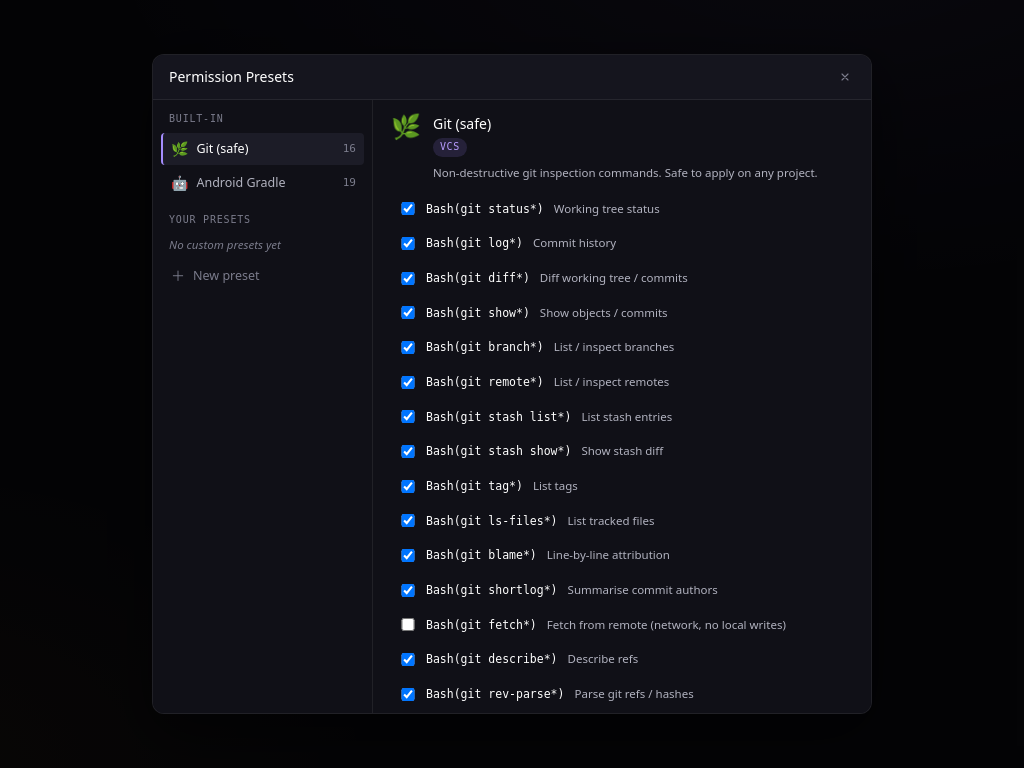
PresetsSheet — createUserPreset › sends `permissions presets new <slug> --name <name> --icon <icon>`, and a success closes the create form with a toast
Expected: the heading "Permission Presets" is shown, [169, 67, 294, 87]
Click the button "＋ New preset".
click(262, 276)  # box [161, 260, 364, 292]
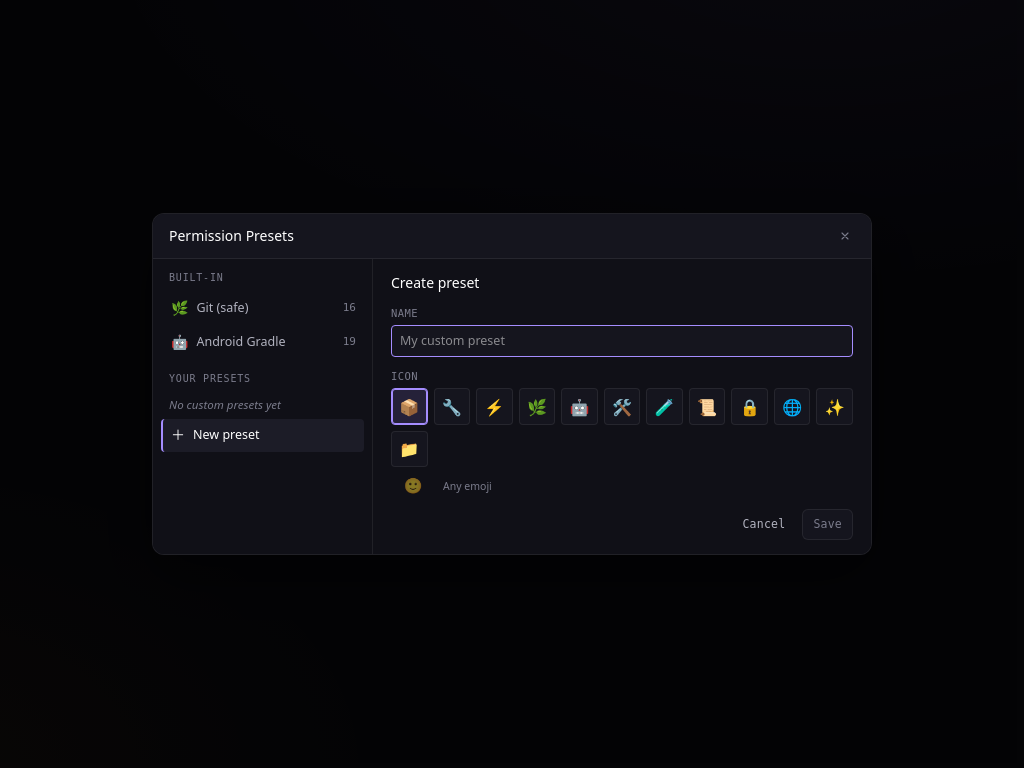
Type "My Tools" into the field with placeholder "My custom preset".
click(622, 341); type("My Tools")  # box [391, 325, 853, 357]
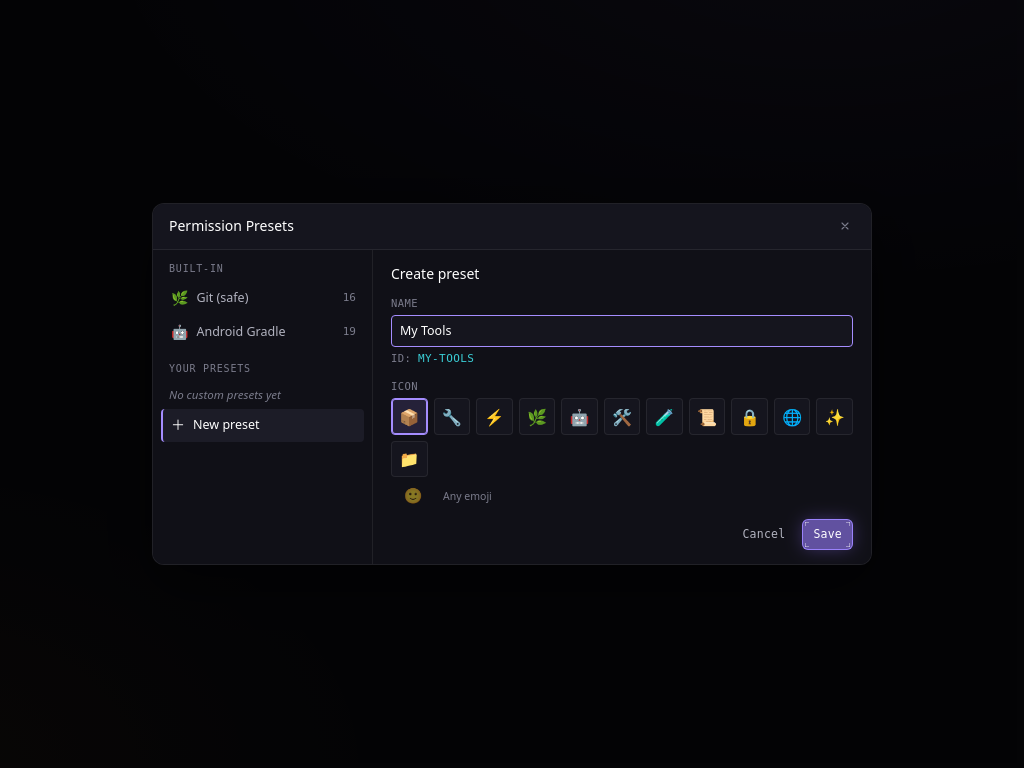
Click the button "Save".
click(828, 534)  # box [802, 519, 853, 550]
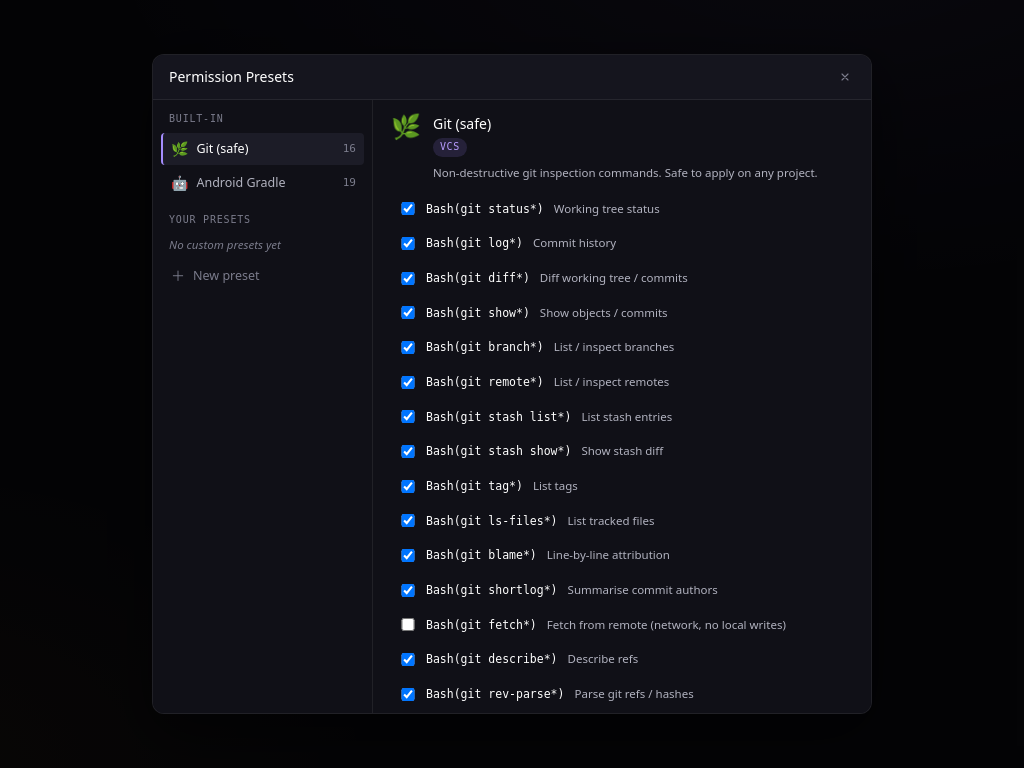
Expected: the heading "Create preset" is gone
